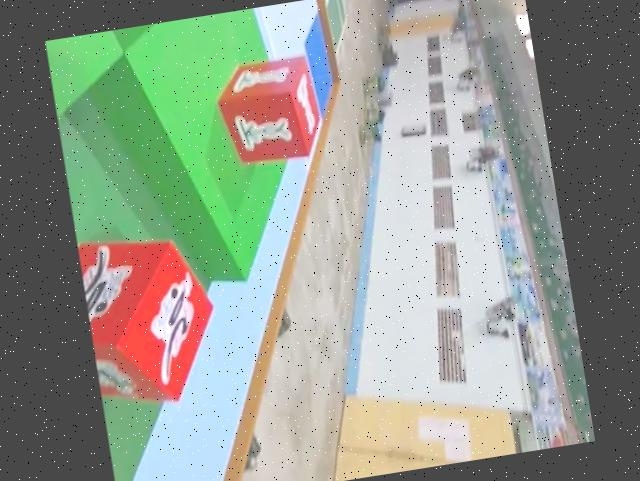R1: (77, 219, 232, 415)
R2 Real: (211, 49, 330, 172)
